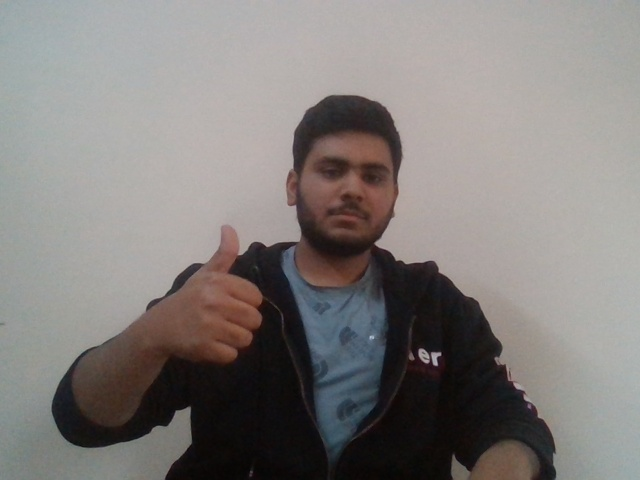Yes: (155, 220, 273, 369)
